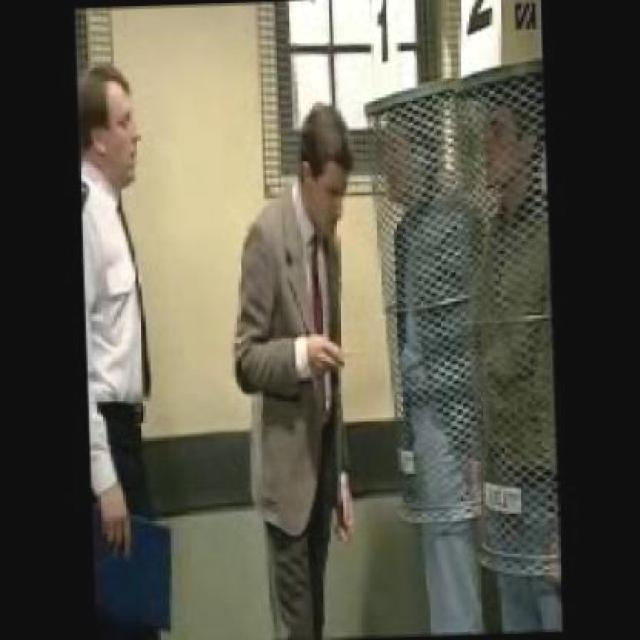non-fight: (216, 96, 372, 638)
